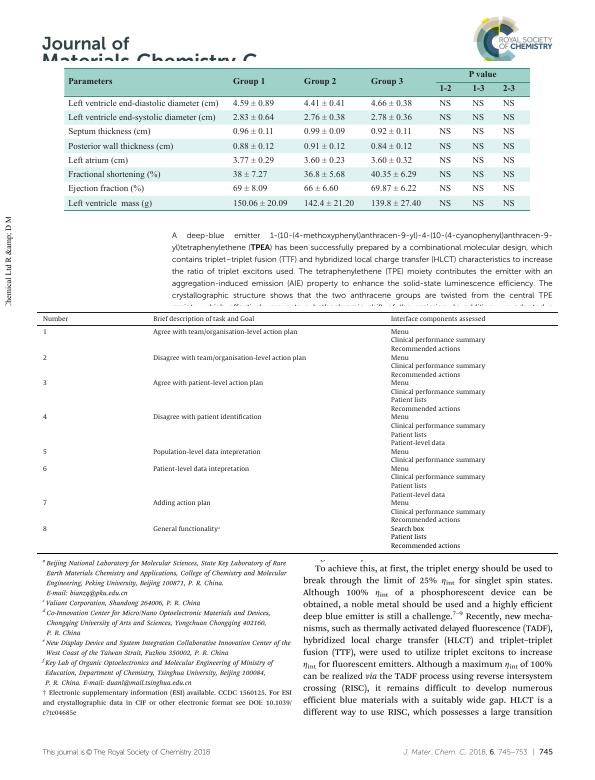borderless: (36, 311, 558, 553), (63, 66, 530, 210)
cell: (389, 380, 485, 414), (389, 414, 485, 448), (389, 466, 485, 500), (389, 354, 485, 380), (389, 329, 485, 354), (389, 500, 485, 525), (389, 526, 461, 551), (389, 448, 485, 465), (66, 99, 219, 109), (66, 113, 216, 123), (152, 354, 306, 363), (152, 329, 298, 337), (66, 142, 174, 152), (152, 414, 262, 423), (152, 448, 261, 457), (66, 170, 161, 180), (66, 127, 151, 138), (152, 315, 255, 324), (152, 380, 263, 388), (389, 315, 486, 324), (66, 199, 152, 209), (66, 184, 144, 195), (152, 466, 249, 474), (152, 525, 221, 534), (66, 156, 128, 166), (232, 199, 288, 209), (370, 184, 417, 195), (303, 199, 354, 209), (370, 199, 421, 209), (152, 500, 211, 508), (370, 170, 417, 180), (232, 127, 274, 138), (303, 127, 345, 138), (370, 127, 412, 138), (67, 78, 113, 88), (232, 99, 274, 109), (303, 99, 345, 109), (370, 99, 412, 109), (232, 113, 274, 123), (303, 113, 345, 123), (370, 113, 412, 123), (232, 142, 274, 152), (303, 142, 345, 152), (370, 142, 412, 152), (232, 156, 274, 166), (303, 156, 345, 166), (370, 156, 412, 166), (303, 170, 345, 180), (232, 184, 268, 195), (303, 184, 339, 195), (232, 170, 268, 180), (369, 78, 404, 88), (232, 78, 266, 88), (303, 78, 337, 88), (467, 71, 497, 81), (41, 315, 69, 324), (438, 127, 452, 138), (471, 127, 485, 138), (438, 184, 452, 195), (471, 184, 485, 195), (502, 127, 515, 138), (502, 184, 515, 195), (438, 85, 452, 95), (471, 85, 485, 95), (501, 85, 515, 95), (438, 99, 452, 109), (471, 99, 485, 109), (438, 113, 452, 123), (471, 113, 485, 123), (438, 142, 452, 152), (471, 142, 485, 152), (438, 156, 452, 166), (471, 156, 485, 166), (438, 170, 452, 180), (471, 170, 485, 180), (438, 199, 452, 209), (471, 199, 485, 209), (502, 99, 515, 109), (502, 113, 515, 123), (502, 142, 515, 152), (502, 156, 515, 166), (502, 170, 515, 180), (502, 199, 515, 209), (41, 354, 47, 363), (41, 414, 47, 423), (41, 448, 47, 457), (41, 329, 47, 337), (41, 380, 47, 388), (41, 466, 47, 474), (41, 500, 47, 508), (41, 526, 47, 534)
